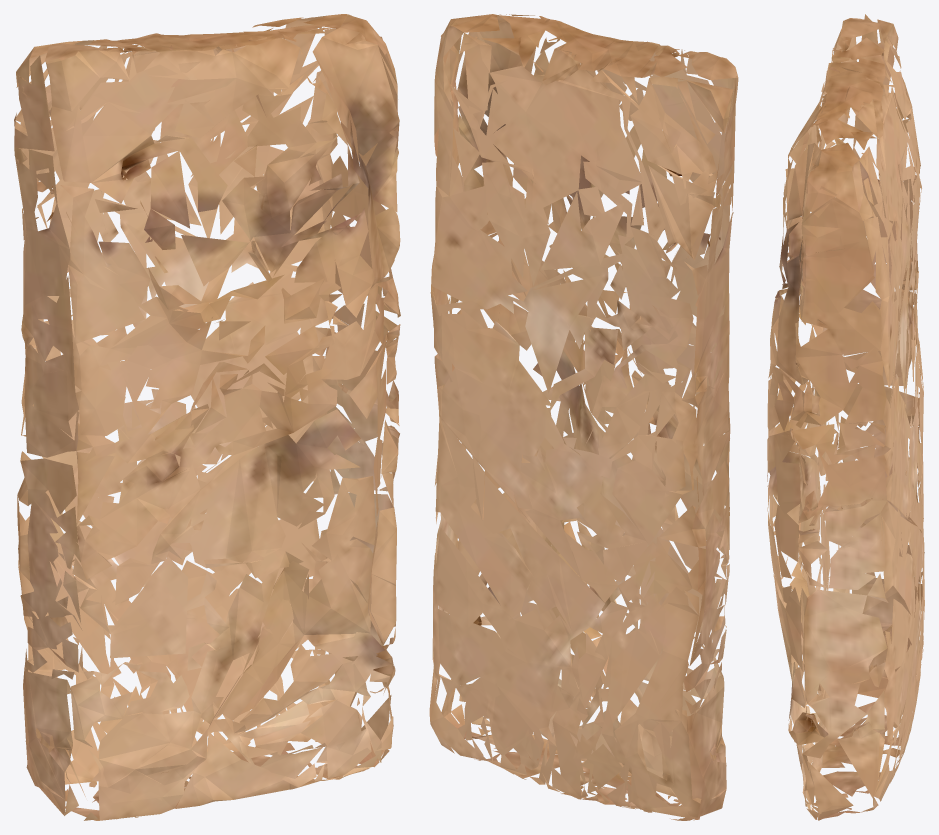
The model's file is sf-ypm-apkallu-plaque.lod1.glb.
3 renders of one model, left to right at view 1: azimuth 30°, elevation 25°; view 2: azimuth 150°, elevation 25°; view 3: azimuth 270°, elevation 25°, orthographic. The views are drawn at different scales.
Parts seen in each view (by area): view 1: Object_11, Object_2, Object_3, Object_12, Object_4, Object_6, Object_7, Object_14, Object_15, Object_5, Object_13, Object_16 (+5 smaller); view 2: Object_2, Object_11, Object_3, Object_4, Object_12, Object_13, Object_14, Object_7, Object_16, Object_17, Object_15, Object_5 (+4 smaller); view 3: Object_6, Object_14, Object_5, Object_16, Object_2, Object_13, Object_3, Object_9, Object_11, Object_4, Object_7, Object_12 (+5 smaller).
Boxes of the visible parts, <box> form: Object_11: <box>14,40,338,477</box>; Object_2: <box>51,212,399,715</box>; Object_3: <box>17,260,384,781</box>; Object_12: <box>15,44,359,463</box>; Object_4: <box>18,438,392,787</box>; Object_6: <box>64,320,396,820</box>; Object_7: <box>84,409,395,820</box>; Object_14: <box>65,28,400,317</box>; Object_15: <box>17,51,397,514</box>; Object_5: <box>18,311,399,808</box>; Object_13: <box>37,15,361,409</box>; Object_16: <box>48,14,399,335</box>; Object_2: <box>430,232,729,795</box>; Object_11: <box>433,51,736,544</box>; Object_3: <box>430,203,729,806</box>; Object_4: <box>433,521,728,817</box>; Object_12: <box>534,69,733,497</box>; Object_13: <box>460,15,738,506</box>; Object_14: <box>431,31,726,329</box>; Object_7: <box>451,350,690,808</box>; Object_16: <box>434,14,733,388</box>; Object_17: <box>456,14,721,393</box>; Object_15: <box>449,32,734,547</box>; Object_5: <box>434,296,729,798</box>; Object_6: <box>767,443,920,808</box>; Object_14: <box>768,37,902,400</box>; Object_5: <box>768,424,919,818</box>; Object_16: <box>782,142,916,342</box>; Object_2: <box>767,347,924,664</box>; Object_13: <box>775,18,921,392</box>; Object_3: <box>770,325,924,809</box>; Object_9: <box>767,428,911,811</box>; Object_11: <box>783,14,923,452</box>; Object_4: <box>774,461,924,808</box>; Object_7: <box>767,451,924,819</box>; Object_12: <box>779,36,923,414</box>.
Bounding box in the file's own units: 0.0715 × 0.1597 × 0.0333.
Materials: 1 (1 with a texture image).
